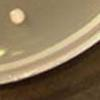white: (6, 7, 29, 28)
